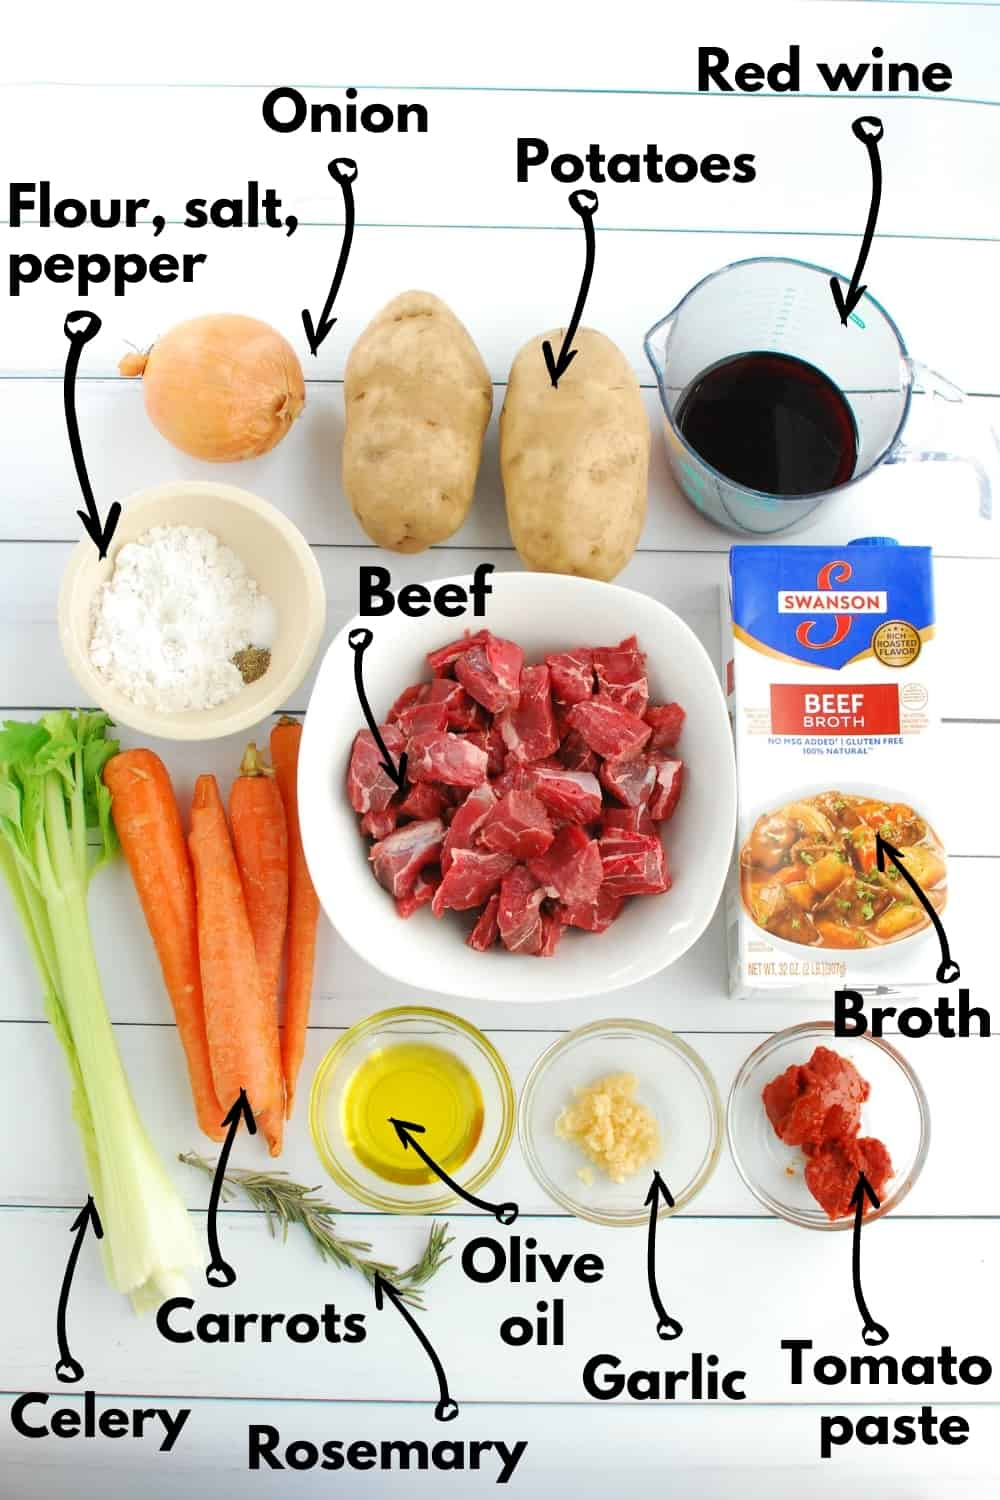Beef: (308, 610, 725, 978)
Carrot: (81, 735, 270, 1183), (157, 761, 299, 1171), (211, 731, 299, 1129)
Onion: (98, 304, 329, 480)
Potato: (302, 267, 513, 576), (483, 304, 658, 614)
